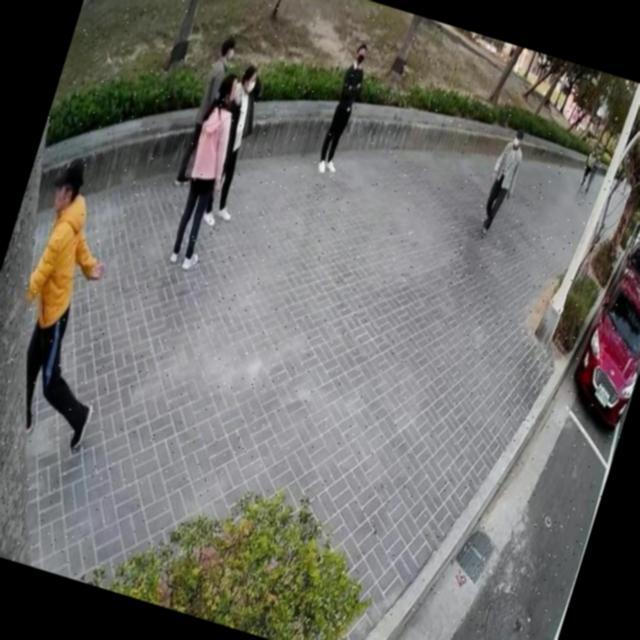person: (0, 145, 166, 455), (156, 65, 254, 274), (192, 55, 276, 232), (169, 27, 241, 193), (311, 37, 376, 180), (468, 122, 531, 245), (577, 143, 599, 190), (583, 150, 604, 193)
